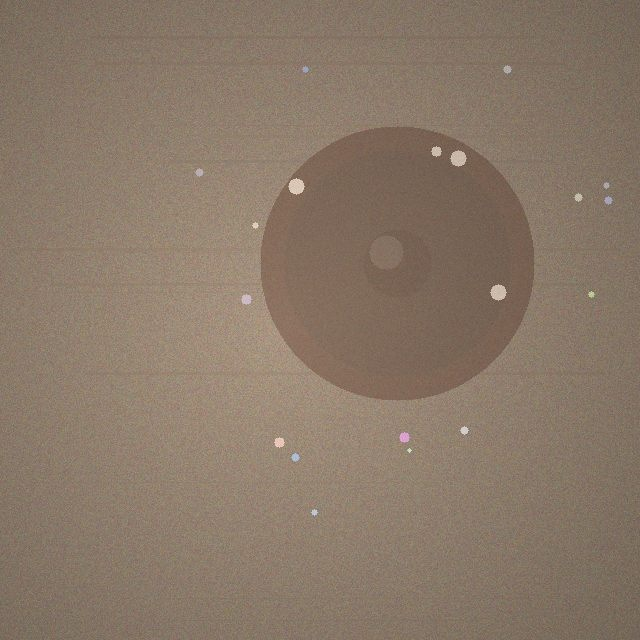overburn: (260, 126, 534, 400)
